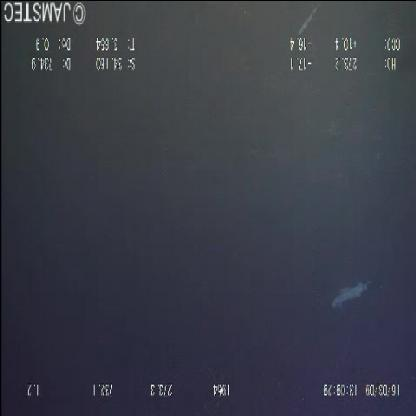Rác: (325, 265, 375, 313)
